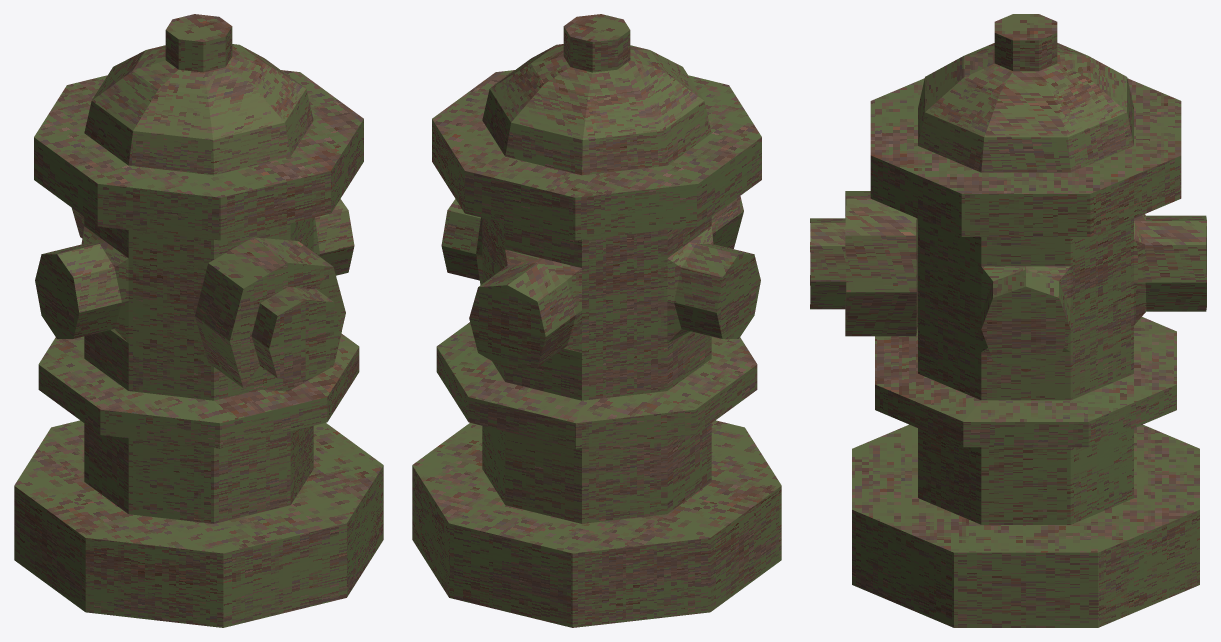
Rendered from fire_hydrant.gltf.
3 renders of one model, left to right at view 1: azimuth 30°, elevation 25°; view 2: azimuth 150°, elevation 25°; view 3: azimuth 270°, elevation 25°, orthographic.
Visible parts, largest first — view 1: Cylinder; view 2: Cylinder; view 3: Cylinder.
Part boxes in pixels (<box>): Cylinder: <box>14,14,383,627</box>; Cylinder: <box>412,14,781,627</box>; Cylinder: <box>810,14,1206,627</box>.
Size of the model in its own units: 0.9475 by 1.58 by 1.08.
Materials: 1 (1 with a texture image).
